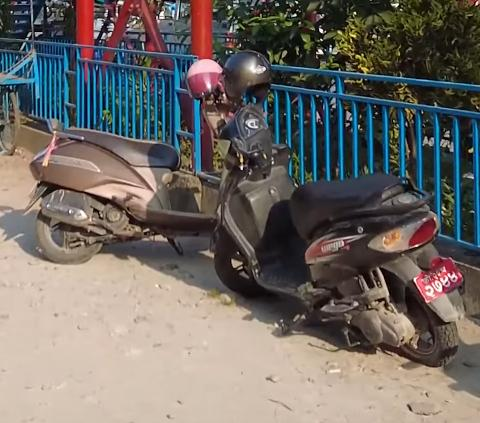scooter: (200, 98, 477, 370), (25, 92, 284, 266)
